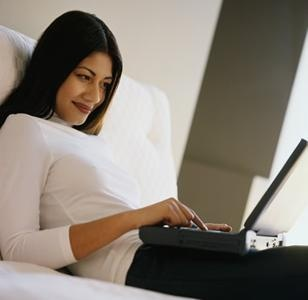person without safety: (4, 4, 151, 240)
